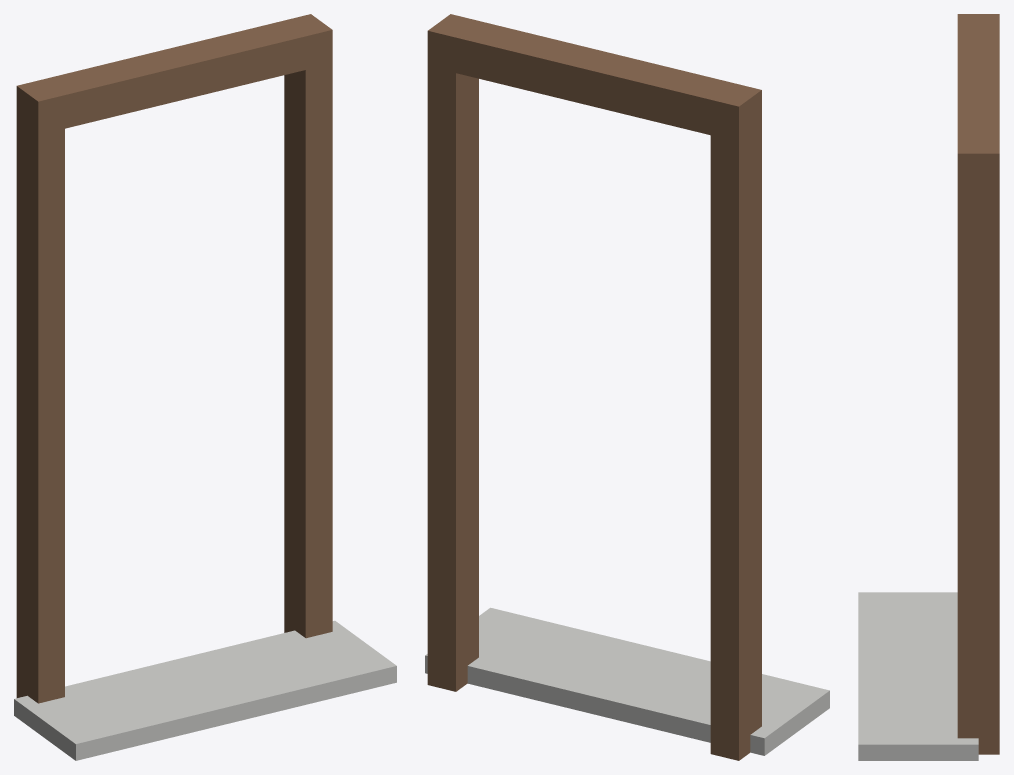
File: DoorFrame.fbx
3 renders of one model, left to right at view 1: azimuth 30°, elevation 25°; view 2: azimuth 150°, elevation 25°; view 3: azimuth 270°, elevation 25°, orthographic. The views are drawn at different scales.
Visible parts, largest first — view 1: DoorFrame; view 2: DoorFrame; view 3: DoorFrame.
Boxes of the visible parts, x1,y1,x2,y2 form: DoorFrame: (14,14,396,760); DoorFrame: (425,14,829,760); DoorFrame: (858,14,999,760).
Size of the model in its own units: 120 by 221 by 47.
